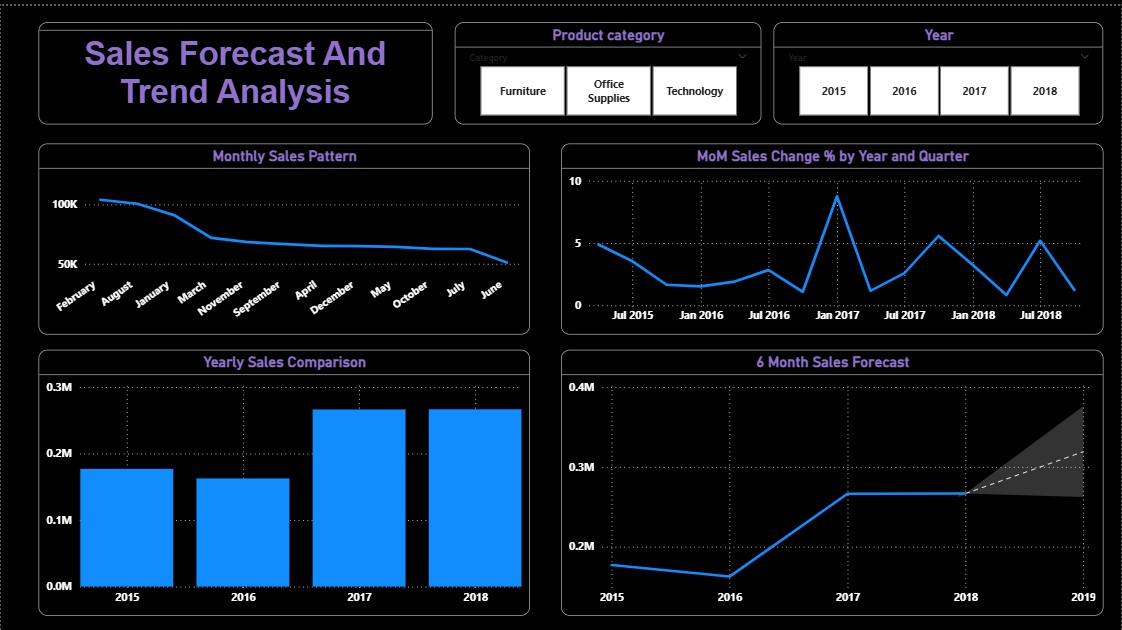

The page's visual inventory and layout, read from the dashboard file:
{"tool":"powerbi","page":{"name":"Sales Forecast & Trends","canvas":[1280,720],"ordinal":3},"visuals":[{"type":"lineChart","title":"6 Month Sales Forecast","fields":{"Category":["Dim_Date.Date.Variation.Date Hierarchy.Year","Dim_Date.Date.Variation.Date Hierarchy.Quarter","Dim_Date.Date.Variation.Date Hierarchy.Month","Dim_Date.Date.Variation.Date Hierarchy.Day"],"Y":["Facts_Sales.Total Sales"]},"box":[640,392.9,620,304.3],"z":0},{"type":"columnChart","title":"Yearly Sales Comparison","fields":{"Category":["Dim_Date.Year"],"Y":["Facts_Sales.Total Sales"]},"box":[42.9,392.9,561.4,304.3],"z":1000},{"type":"lineChart","title":"Monthly Sales Pattern","fields":{"Category":["Dim_Date.MonthName"],"Y":["Facts_Sales.Total Sales"]},"box":[42.9,157.1,561.4,218.6],"z":2000},{"type":"lineChart","fields":{"Category":["Dim_Date.Date.Variation.Date Hierarchy.Year","Dim_Date.Date.Variation.Date Hierarchy.Quarter","Dim_Date.Date.Variation.Date Hierarchy.Month","Dim_Date.Date.Variation.Date Hierarchy.Day"],"Y":["Facts_Sales.MoM Sales Change %"]},"box":[640,157.1,620,218.6],"z":3000},{"type":"slicer","title":"Year","fields":{"Values":["Dim_Date.Year"]},"box":[882.9,18.6,377.1,117.1],"z":4000},{"type":"slicer","title":"Product category","fields":{"Values":["Dim_Product.Category"]},"box":[518.6,18.6,350,117.1],"z":5000},{"type":"textbox","box":[42.9,18.6,450,117.1],"z":6000}]}

Visuals, with their boxes in screenshot pixels (x1, y1, x2, y2), scaled from the page's 1280x720 canvas onto the 1122x630 screenshot:
"6 Month Sales Forecast" lineChart: l=561, t=344, r=1104, b=610
"Yearly Sales Comparison" columnChart: l=38, t=344, r=530, b=610
"Monthly Sales Pattern" lineChart: l=38, t=137, r=530, b=329
lineChart - Dim_Date.Date.Variation.Date Hierarchy.Year x Dim_Date.Date.Variation.Date Hierarchy.Quarter: l=561, t=137, r=1104, b=329
"Year" slicer: l=774, t=16, r=1104, b=119
"Product category" slicer: l=455, t=16, r=761, b=119
textbox: l=38, t=16, r=432, b=119
